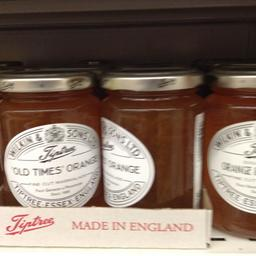jam: (98, 68, 204, 210), (0, 71, 99, 206), (201, 70, 255, 236)
